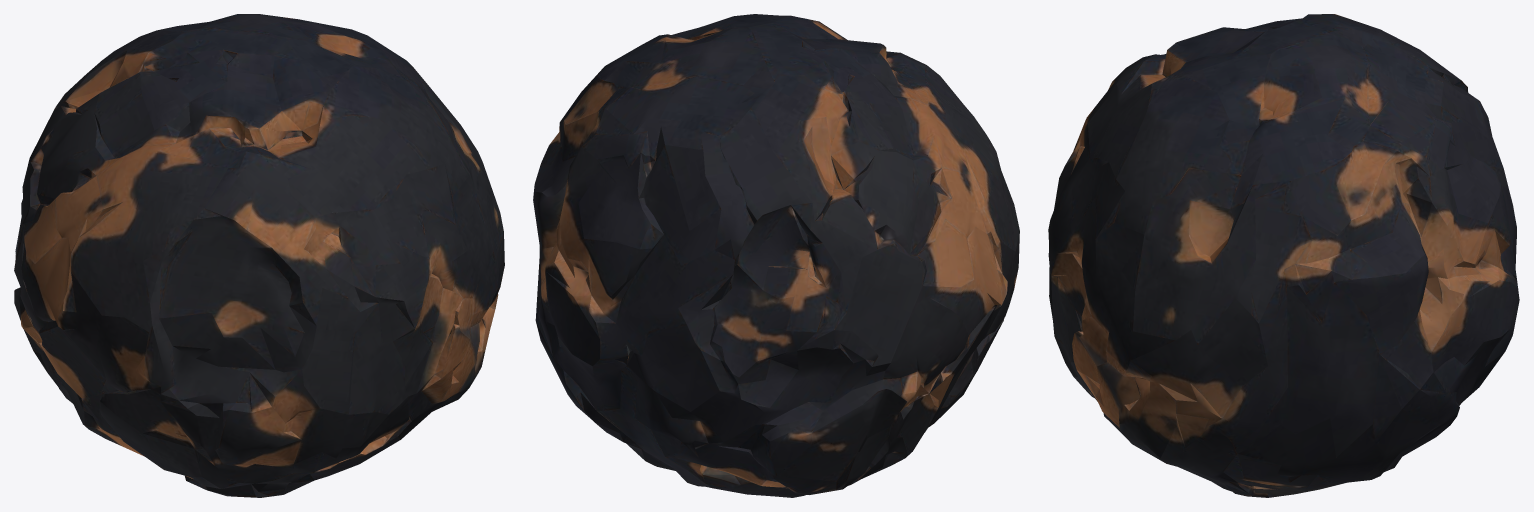
Rendered from asteroid-metal.glb.
The picture shows the model from 3 angles, left to right: view 1: azimuth 30°, elevation 25°; view 2: azimuth 150°, elevation 25°; view 3: azimuth 270°, elevation 25°; orthographic projection.
Size of the model in its own units: 1.9 by 1.85 by 1.81.
1 material, 1 textured.
